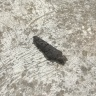Dog: (32, 36, 68, 65)
